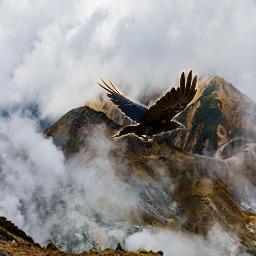Crow: (95, 69, 199, 142)
